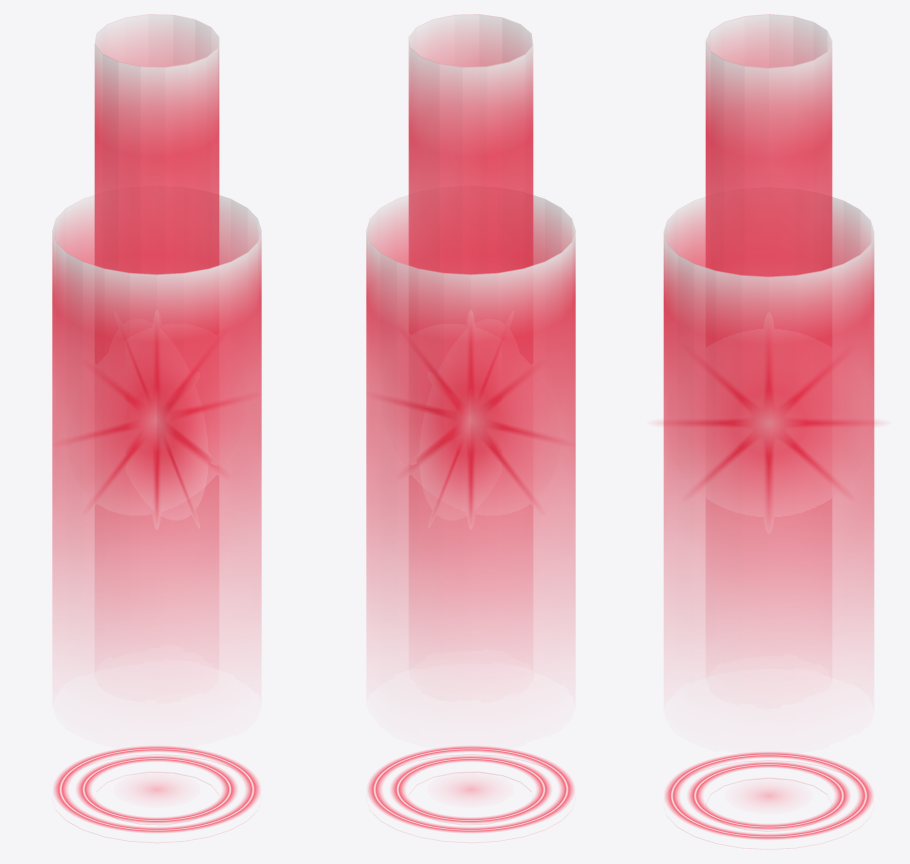
The model's file is fx_up_lash.glb.
The picture shows the model from 3 angles, left to right: view 1: azimuth 30°, elevation 25°; view 2: azimuth 150°, elevation 25°; view 3: azimuth 270°, elevation 25°; orthographic projection.
Visible parts, largest first — view 1: fx_up_pillar, fx_up_star, fx_up_ring; view 2: fx_up_pillar, fx_up_star, fx_up_ring; view 3: fx_up_pillar, fx_up_star, fx_up_ring.
Boxes of the visible parts, box(x1,y1,x2,y2) form: fx_up_pillar: box(52, 14, 261, 842); fx_up_star: box(64, 347, 239, 517); fx_up_ring: box(54, 746, 259, 832); fx_up_pillar: box(366, 14, 575, 842); fx_up_star: box(387, 342, 563, 516); fx_up_ring: box(368, 746, 573, 832); fx_up_pillar: box(663, 14, 874, 849); fx_up_star: box(661, 352, 876, 510); fx_up_ring: box(665, 752, 872, 839).
Size of the model in its own units: 1.2 by 4 by 1.2.
3 materials, 3 textured.
